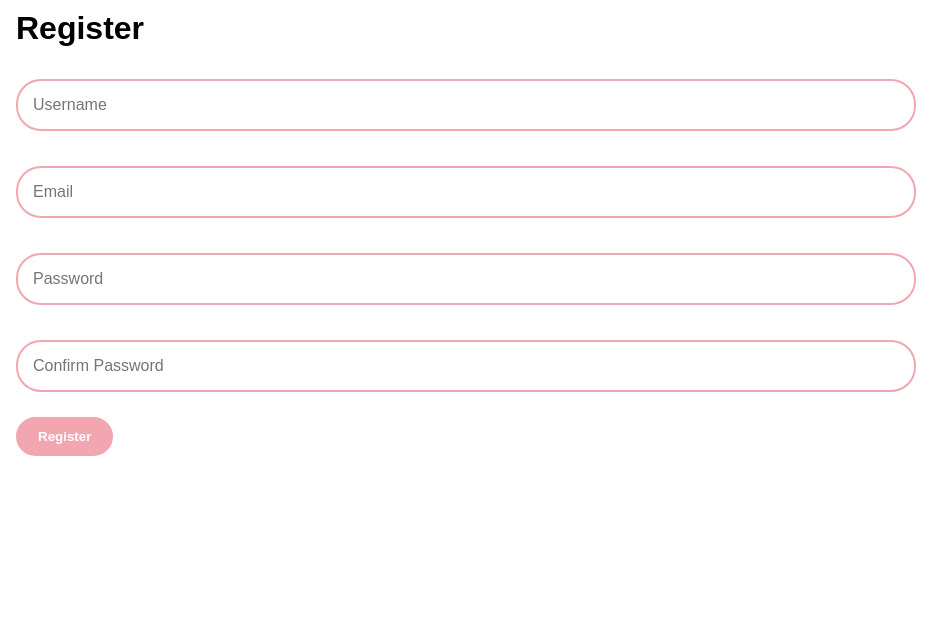
Test: Register Component Tests › shows error messages for invalid form input
The width and height of the screenshot is (933, 637).
// simulate user input with invalid data
In the field with placeholder "Username": [466, 105] box left=16, top=79, right=916, bottom=131, type "ab"
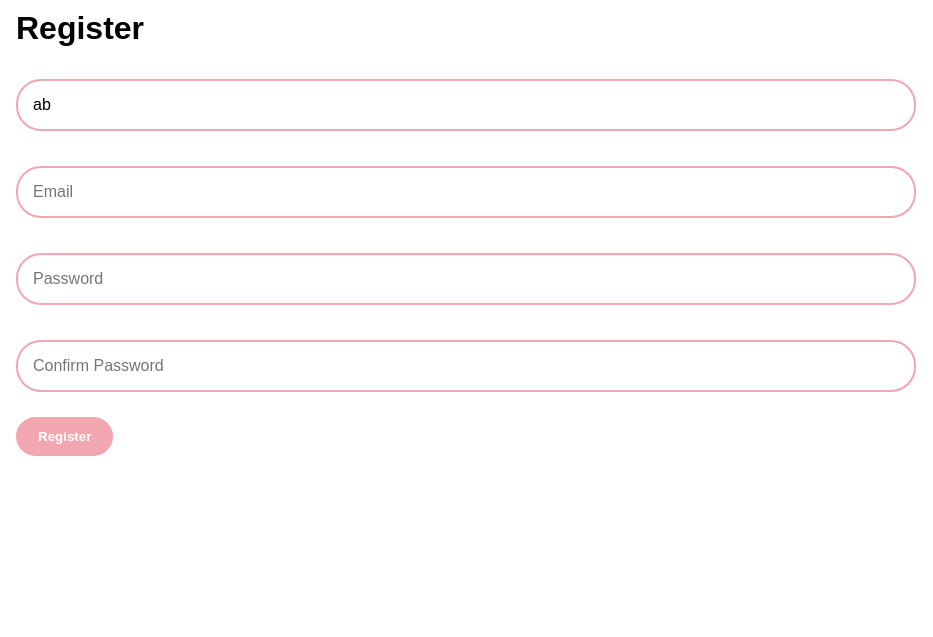
In the field with placeholder "Email": [466, 192] box left=16, top=166, right=916, bottom=218, type "invalidemail"
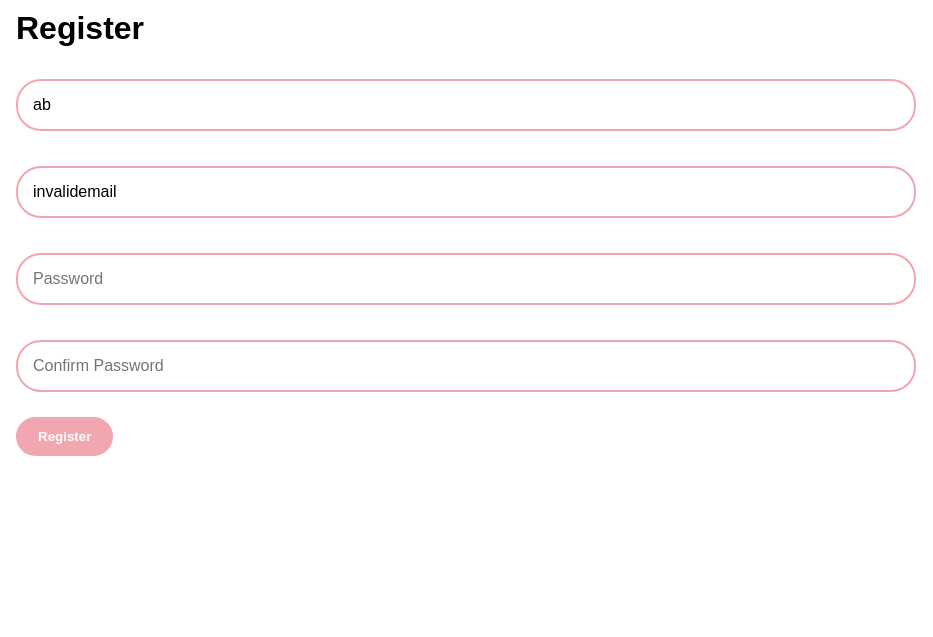
In the password field with placeholder "Password": [466, 279] box left=16, top=253, right=916, bottom=305, type "short"
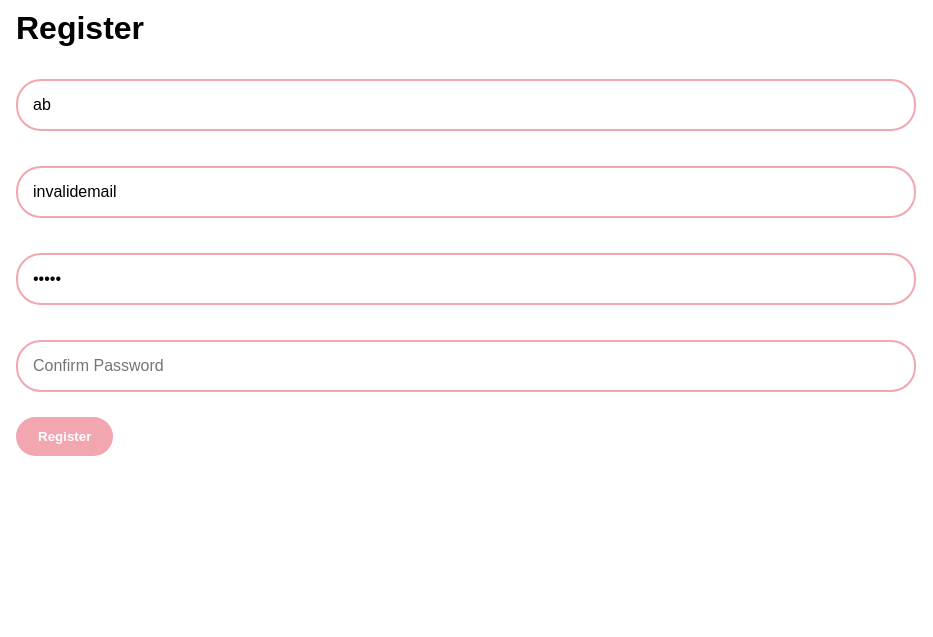
In the password field with placeholder "Confirm Password": [466, 366] box left=16, top=340, right=916, bottom=392, type "mismatch"
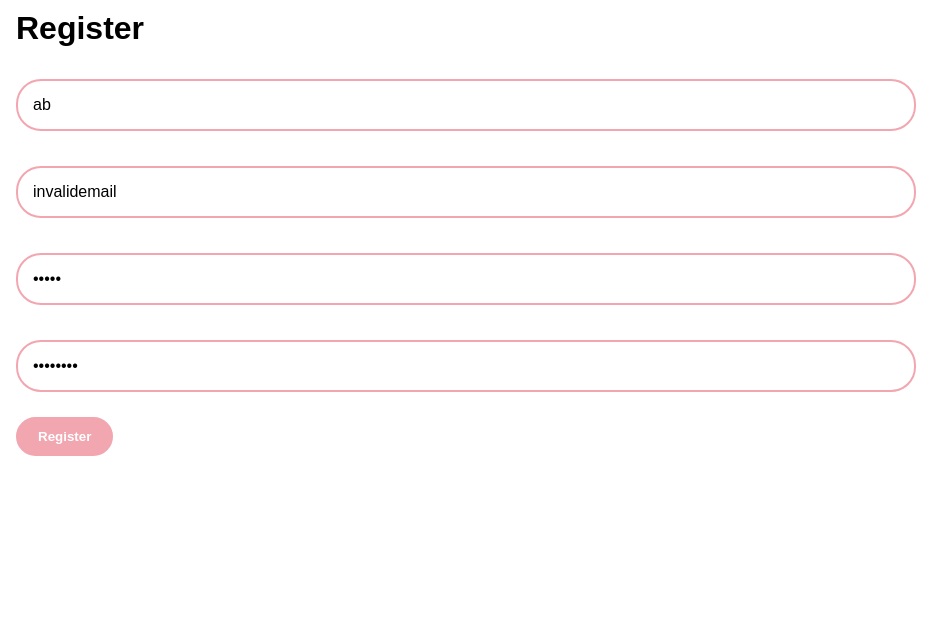
// simulate form submission
Click the button with class "btn-register": [65, 436] box left=16, top=417, right=113, bottom=456
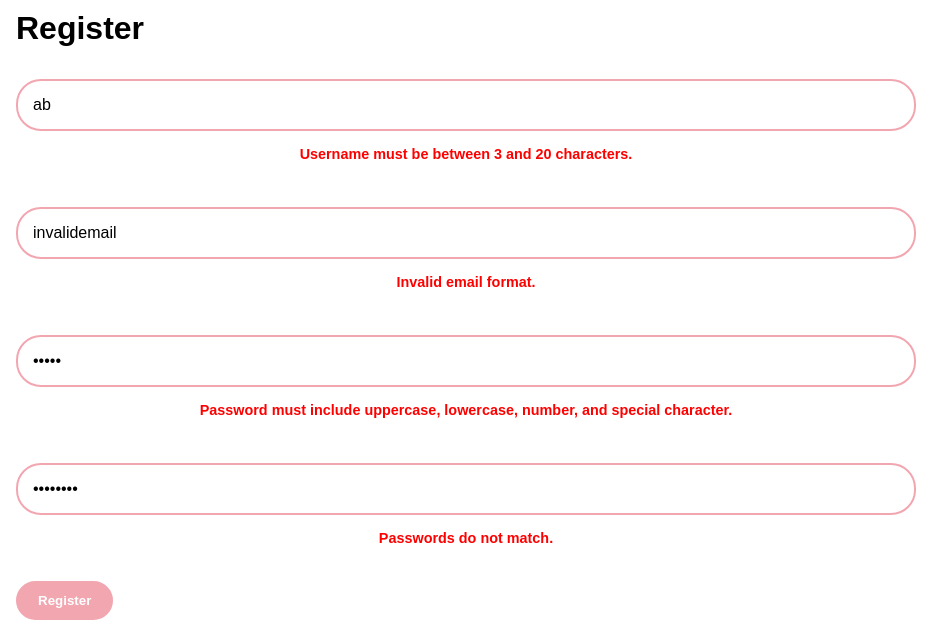
Result: the text with class "error-message" reads "Username must be between 3 and 20 characters." at left=300, top=146, right=632, bottom=162
Result: the text with class "error-message" reads "Invalid email format." at left=396, top=274, right=536, bottom=290
Result: the text with class "error-message" reads "Password must include uppercase, lowercase, number, and special character." at left=200, top=402, right=732, bottom=418
